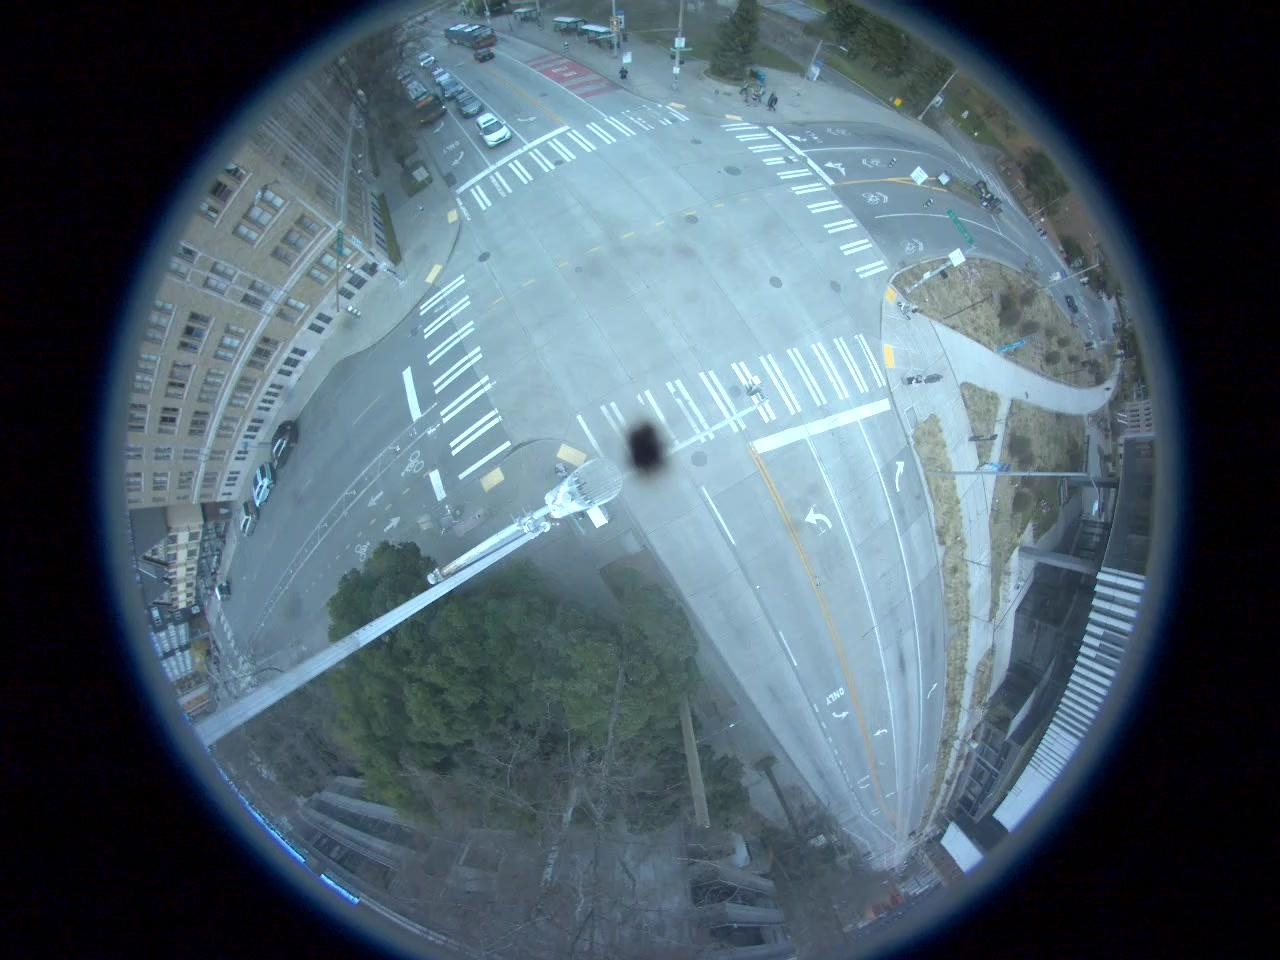bus: (397, 68, 447, 125), (446, 22, 496, 47)
car: (269, 420, 301, 470), (478, 111, 508, 147), (253, 461, 273, 511), (238, 496, 260, 538), (454, 92, 482, 118), (438, 75, 464, 102), (472, 47, 495, 62)
person: (896, 301, 921, 324), (900, 373, 929, 389), (738, 76, 754, 104), (921, 371, 949, 386), (767, 90, 782, 113), (618, 60, 630, 88), (757, 84, 767, 103), (751, 88, 758, 107)
